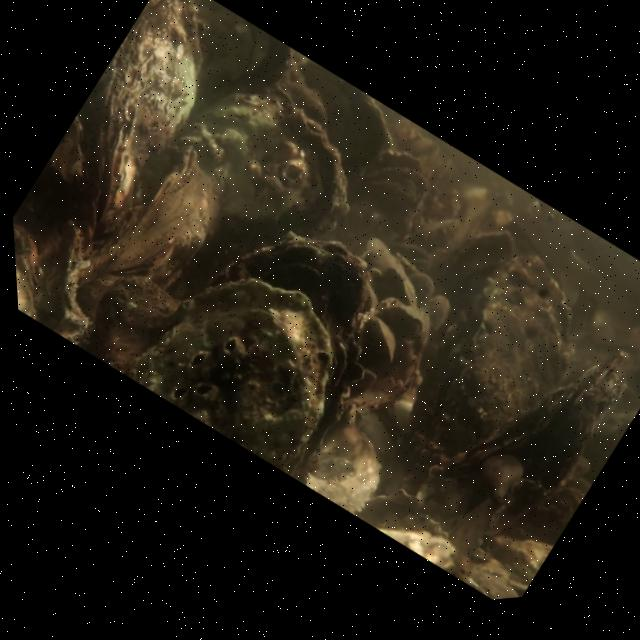Oyster-Closed: (424, 345, 635, 547), (405, 254, 583, 464), (95, 0, 210, 235), (78, 142, 219, 291), (38, 217, 93, 346), (13, 220, 44, 294), (376, 301, 425, 336), (366, 313, 398, 365), (377, 261, 412, 306)
Oyster-Indeterminate: (128, 278, 330, 474), (215, 228, 371, 425), (188, 89, 346, 233)
Oyster-Open: (359, 148, 433, 232)
